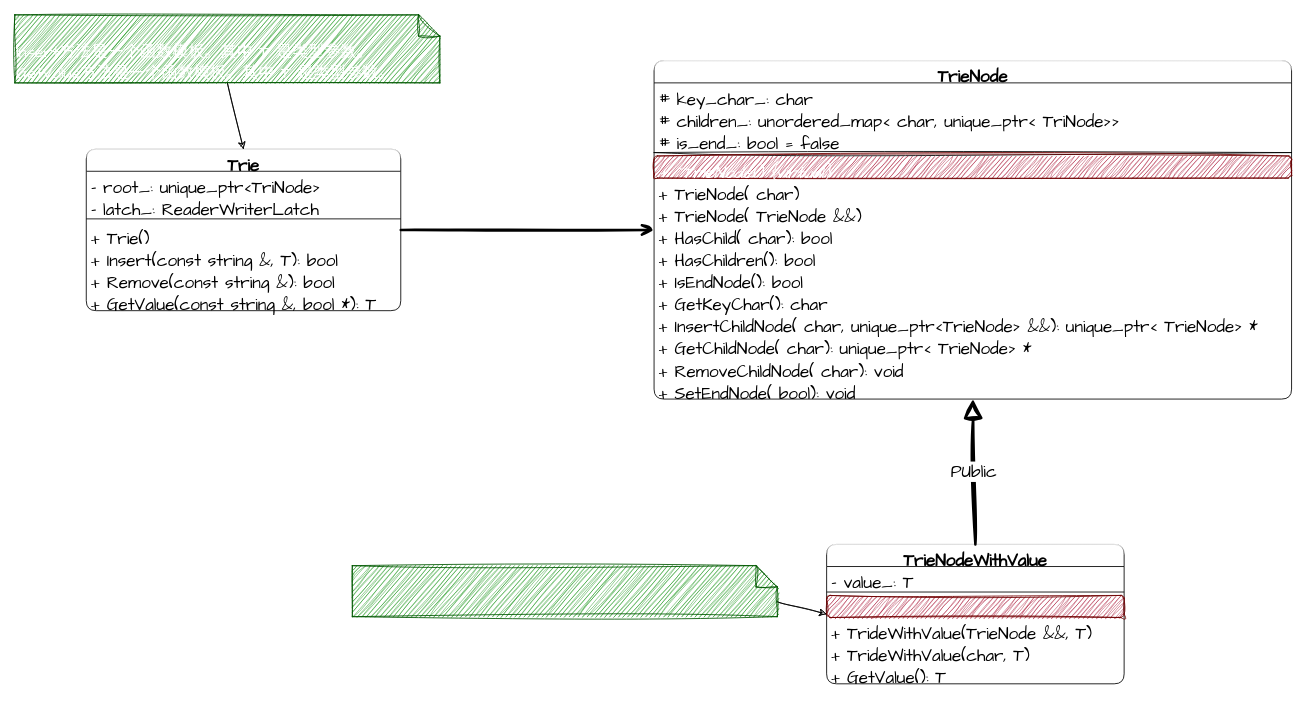
Some shapes in this 1306 by 704 pixel diagram are drawn without their labels. The shapes that lost their labels are listed below. From the top down, each one's centre as x and y in pixels, then its label:
At point (564, 591): "TrieNodeWithValue是一个类模板。其中 T 是类型参数。".
At point (975, 606): "+ ~TrideWithValue() {virtual}".
